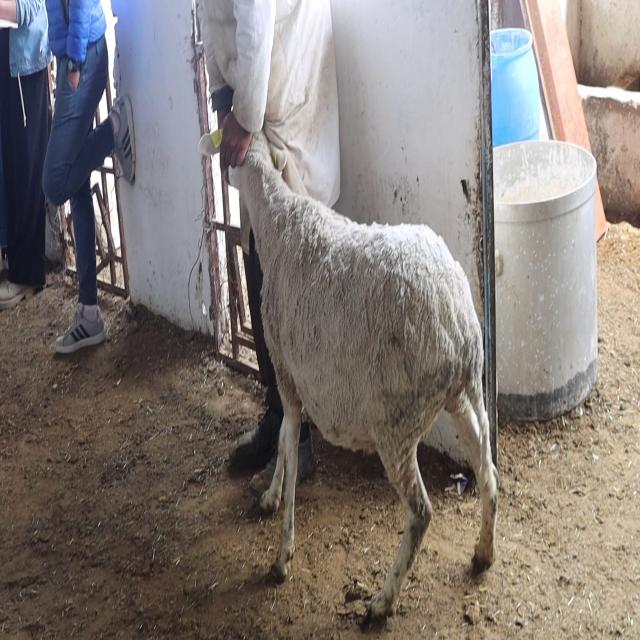Score_5: (228, 132, 498, 617)
